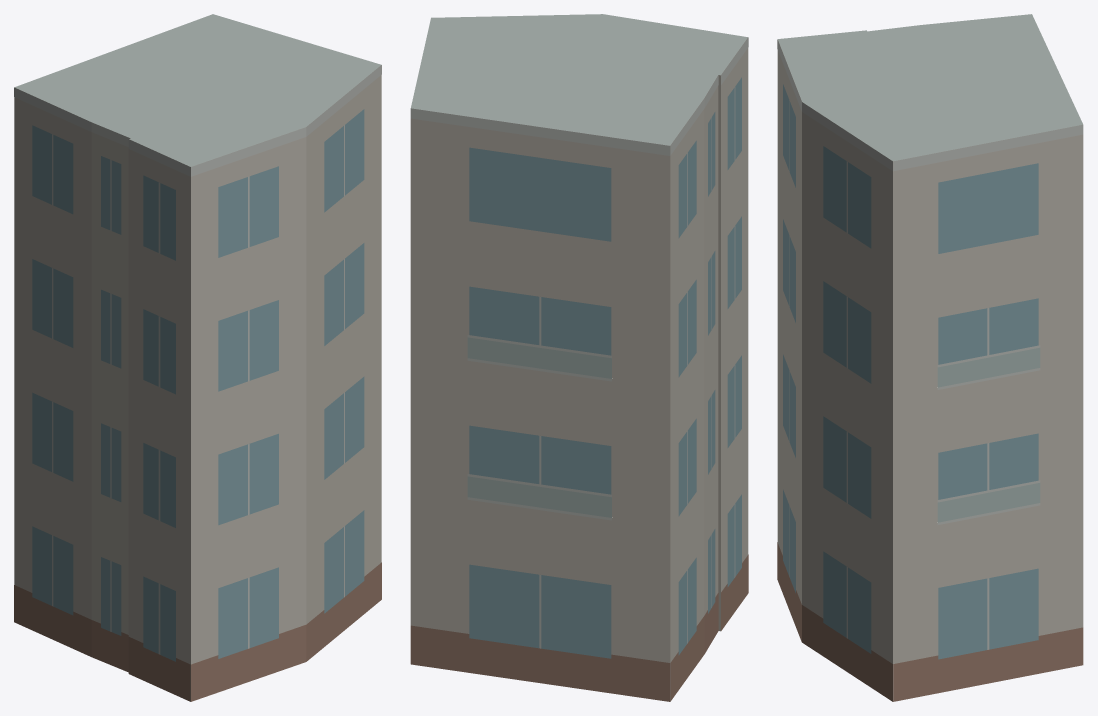
Rendered from survey-upis-32457797.glb.
3 renders of one model, left to right at view 1: azimuth 30°, elevation 25°; view 2: azimuth 150°, elevation 25°; view 3: azimuth 270°, elevation 25°, orthographic. The views are drawn at different scales.
Parts seen in each view (by area): view 1: survey-upis-32457797.tmp; view 2: survey-upis-32457797.tmp; view 3: survey-upis-32457797.tmp.
Boxes of the visible parts, left/top/right/bottom form: survey-upis-32457797.tmp: left=14, top=14, right=381, bottom=701; survey-upis-32457797.tmp: left=410, top=14, right=748, bottom=701; survey-upis-32457797.tmp: left=777, top=14, right=1083, bottom=701.
Size of the model in its own units: 7.79 by 13.3 by 6.83.
